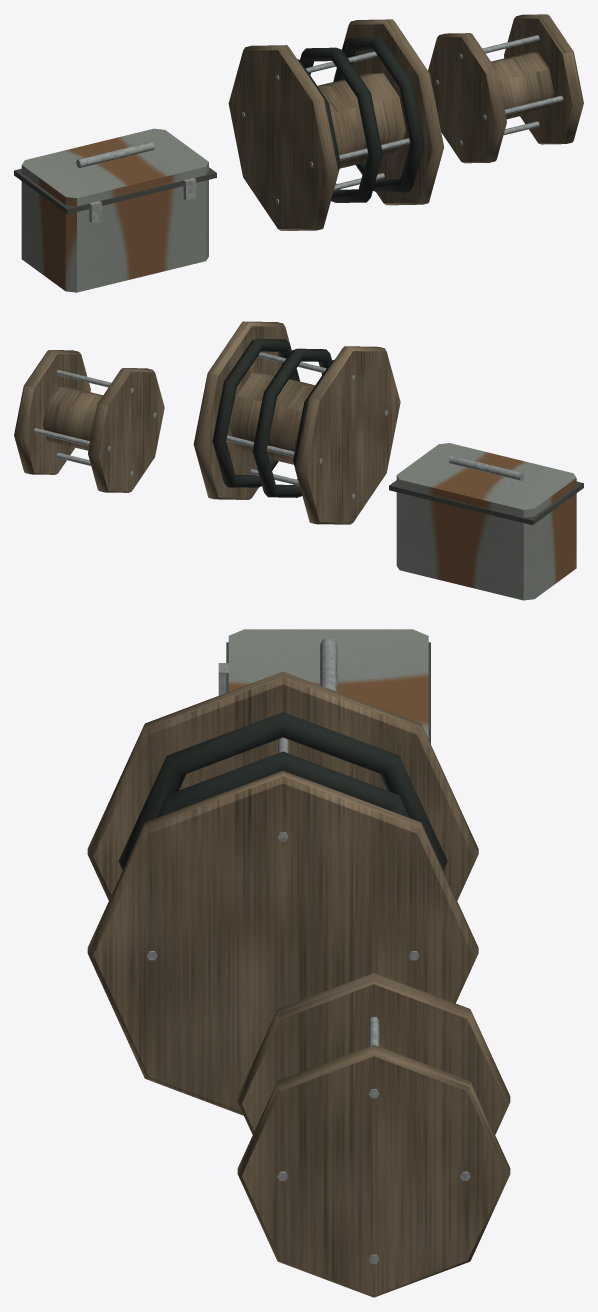
File: SM_SubstationSite_Equipment_LOD2.fbx
3 views of the same model, one above another, from view 1: azimuth 30°, elevation 25°; view 2: azimuth 150°, elevation 25°; view 3: azimuth 270°, elevation 25° (orthographic). The views are drawn at different scales.
Parts seen in each view (by area): view 1: SM_SubstationSite_Equipment_LOD2; view 2: SM_SubstationSite_Equipment_LOD2; view 3: SM_SubstationSite_Equipment_LOD2.
Part boxes in pixels (x1,y1,x2,y2): SM_SubstationSite_Equipment_LOD2: [14, 14, 583, 292]; SM_SubstationSite_Equipment_LOD2: [14, 321, 583, 600]; SM_SubstationSite_Equipment_LOD2: [87, 629, 510, 1297].
Bounding box in the file's own units: 2.54 × 0.93 × 0.86.
